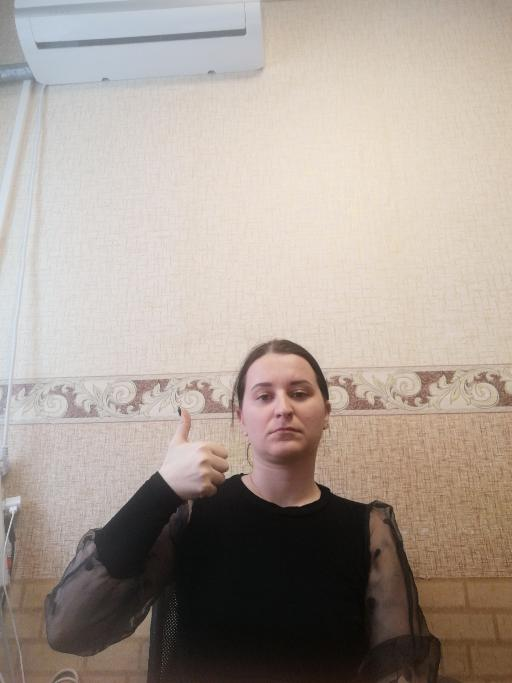like: (160, 403, 230, 499)
